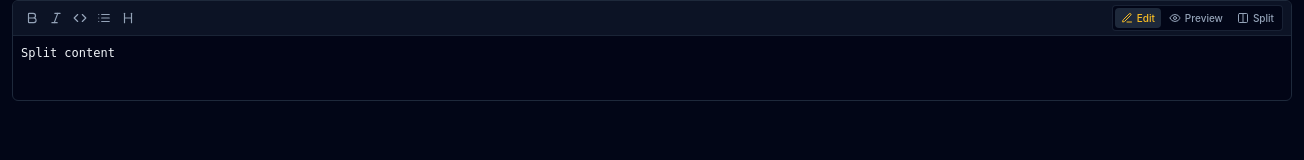
Test: MarkdownEditor Component › 3. Edit, Preview & Split Mode Toggle › renders in split view showing both textarea and preview simultaneously
Click the button with test id "md-mode-split".
click(1255, 18)  # box [1231,8,1280,28]
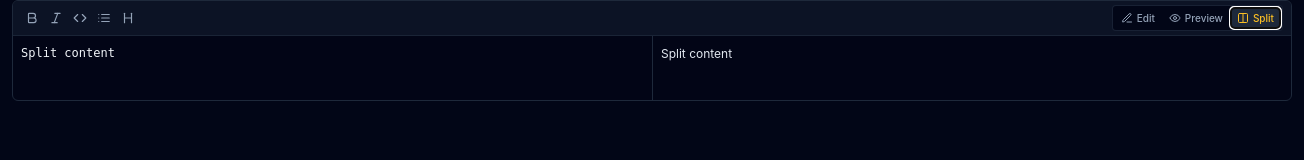
Check: the text box with test id "markdown-textarea" is shown, box [13,36,652,100]
Check: the text "Split content" is shown, box [652,36,1291,100]
